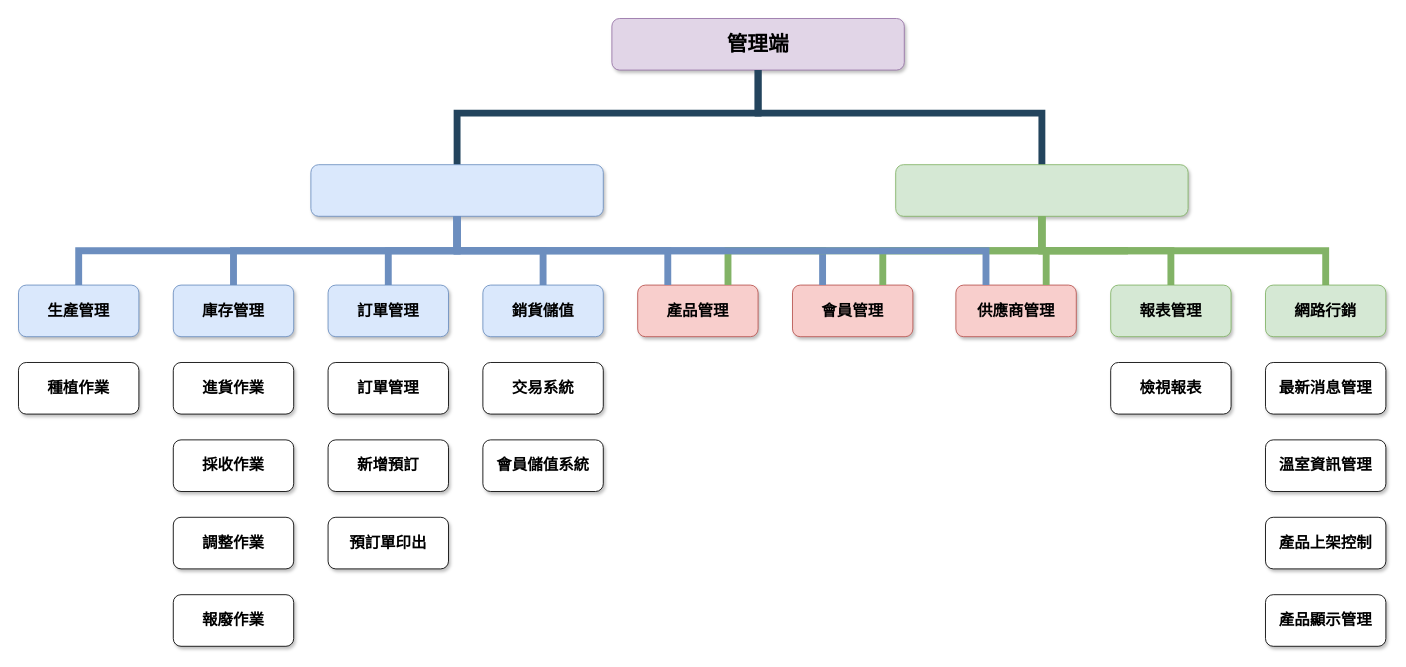
The diagram is 1406 pixels wide and 667 high, and some of its shapes have lost their labels. Here are the shapes that lost their labels. From the top down, the centre of each, then its label:
At point 457,191: "POS".
At point 1042,191: "管理".
